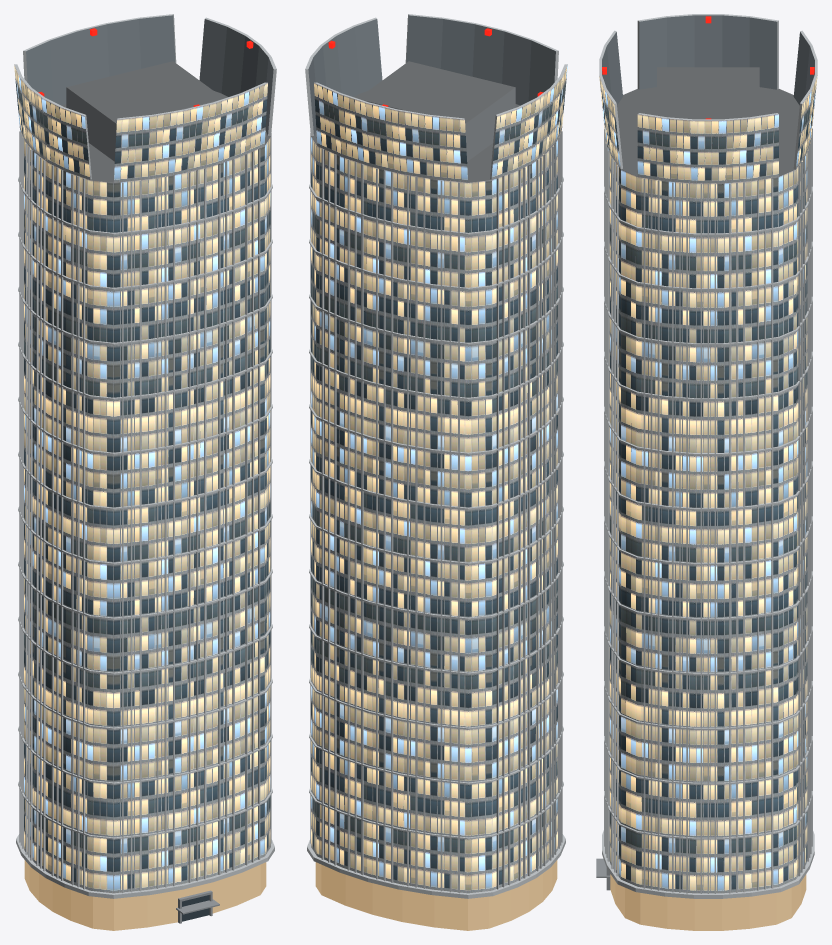
File: atago_green_hills_mori_tower.glb
3 views of the same model, side by side, from view 1: azimuth 30°, elevation 25°; view 2: azimuth 150°, elevation 25°; view 3: azimuth 270°, elevation 25° (orthographic).
Visible parts, largest first — view 1: atago_green_hills_mori_tower; view 2: atago_green_hills_mori_tower; view 3: atago_green_hills_mori_tower.
Part boxes in pixels (bbox=[...]): atago_green_hills_mori_tower: bbox=[14, 14, 276, 930]; atago_green_hills_mori_tower: bbox=[305, 14, 567, 930]; atago_green_hills_mori_tower: bbox=[596, 14, 817, 930].
Bounding box in the file's own units: 52.5 × 187 × 46.
Materials: 2 (2 with a texture image).
